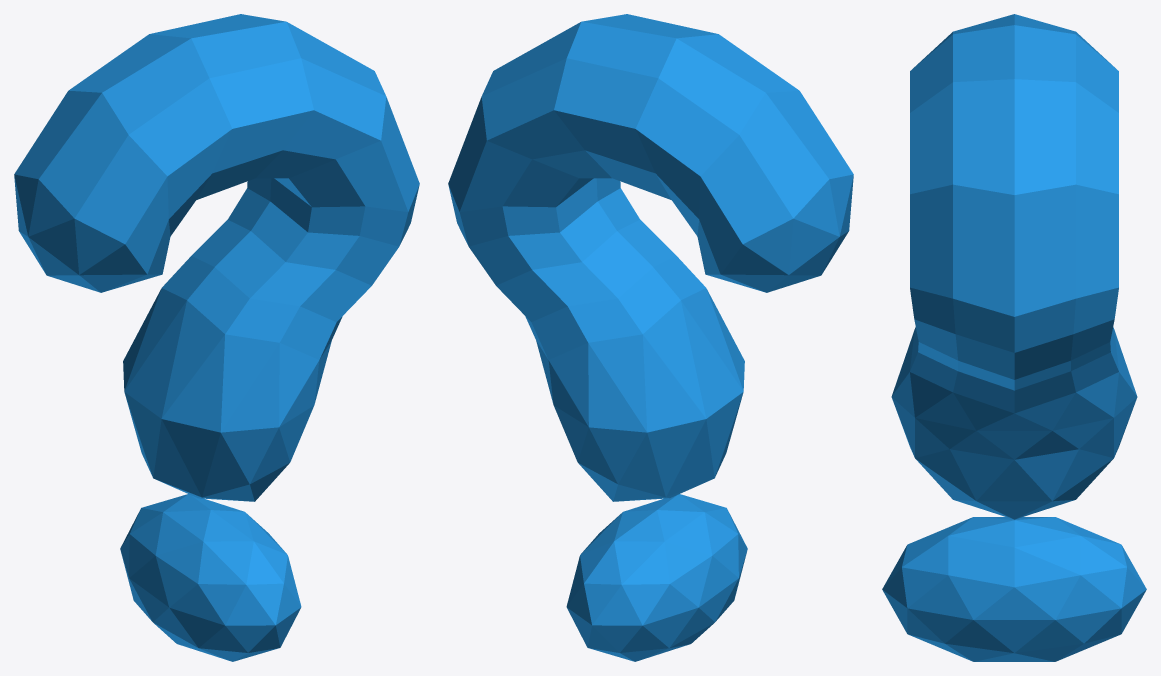
Rendered from Question.fbx.
3 renders of one model, left to right at view 1: azimuth 30°, elevation 25°; view 2: azimuth 150°, elevation 25°; view 3: azimuth 270°, elevation 25°, orthographic.
Parts seen in each view (by area): view 1: Low_poly_question; view 2: Low_poly_question; view 3: Low_poly_question.
Part boxes in pixels (<box>): Low_poly_question: <box>14,14,419,661</box>; Low_poly_question: <box>448,14,853,661</box>; Low_poly_question: <box>882,14,1146,661</box>.
Size of the model in its own units: 2.67 by 4.16 by 1.6.
